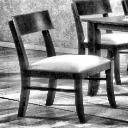chair_success: (0, 7, 120, 124)
